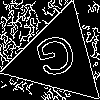G: (33, 33, 82, 88)
